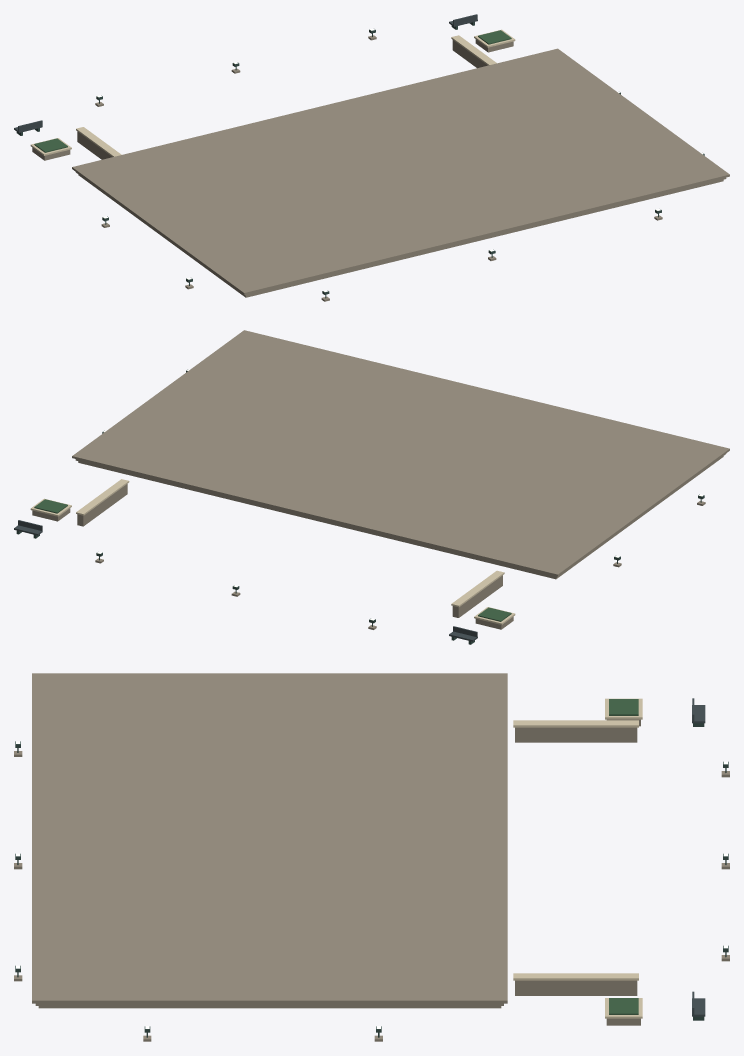
The model's file is KOL_T1_TOWN_HALL__09_Foundation_Detail.fbx.
The picture shows the model from 3 angles, top to bottom: view 1: azimuth 30°, elevation 25°; view 2: azimuth 150°, elevation 25°; view 3: azimuth 270°, elevation 25°; orthographic projection. The views are drawn at different scales.
Parts seen in each view (by area): view 1: KOL_T1_TOWN_HALL__09_Foundation_Detail__KOL_T1_HeritageStone, KOL_T1_TOWN_HALL__09_Foundation_Detail__KOL_T1_HeritageCream, KOL_T1_TOWN_HALL__09_Foundation_Detail__KOL_T1_Leaf; view 2: KOL_T1_TOWN_HALL__09_Foundation_Detail__KOL_T1_HeritageStone, KOL_T1_TOWN_HALL__09_Foundation_Detail__KOL_T1_HeritageCream, KOL_T1_TOWN_HALL__09_Foundation_Detail__KOL_T1_Leaf, KOL_T1_TOWN_HALL__09_Foundation_Detail__KOL_T1_HeritageSlate; view 3: KOL_T1_TOWN_HALL__09_Foundation_Detail__KOL_T1_HeritageStone, KOL_T1_TOWN_HALL__09_Foundation_Detail__KOL_T1_HeritageCream, KOL_T1_TOWN_HALL__09_Foundation_Detail__KOL_T1_Leaf.
Part boxes in pixels (left/top/right/bottom): KOL_T1_TOWN_HALL__09_Foundation_Detail__KOL_T1_HeritageStone: left=32, top=35, right=729, bottom=301; KOL_T1_TOWN_HALL__09_Foundation_Detail__KOL_T1_HeritageCream: left=30, top=29, right=515, bottom=156; KOL_T1_TOWN_HALL__09_Foundation_Detail__KOL_T1_Leaf: left=34, top=30, right=511, bottom=152; KOL_T1_TOWN_HALL__09_Foundation_Detail__KOL_T1_HeritageStone: left=32, top=330, right=729, bottom=629; KOL_T1_TOWN_HALL__09_Foundation_Detail__KOL_T1_HeritageCream: left=30, top=479, right=515, bottom=624; KOL_T1_TOWN_HALL__09_Foundation_Detail__KOL_T1_Leaf: left=34, top=499, right=511, bottom=621; KOL_T1_TOWN_HALL__09_Foundation_Detail__KOL_T1_HeritageSlate: left=14, top=520, right=477, bottom=641; KOL_T1_TOWN_HALL__09_Foundation_Detail__KOL_T1_HeritageStone: left=14, top=673, right=729, bottom=1041; KOL_T1_TOWN_HALL__09_Foundation_Detail__KOL_T1_HeritageCream: left=513, top=698, right=642, bottom=1018; KOL_T1_TOWN_HALL__09_Foundation_Detail__KOL_T1_Leaf: left=609, top=699, right=638, bottom=1014.
Bounding box in the file's own units: 121 × 4.93 × 105.
